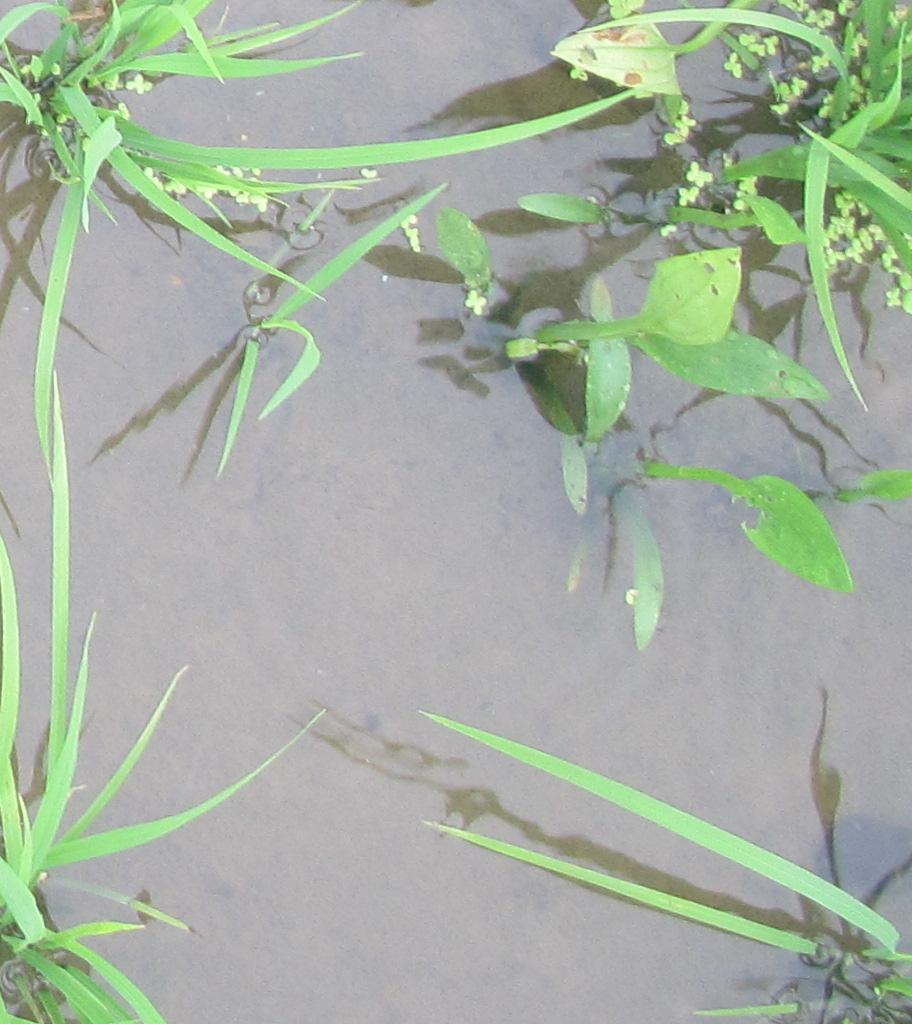Weed: (510, 239, 849, 588), (526, 8, 687, 108)
